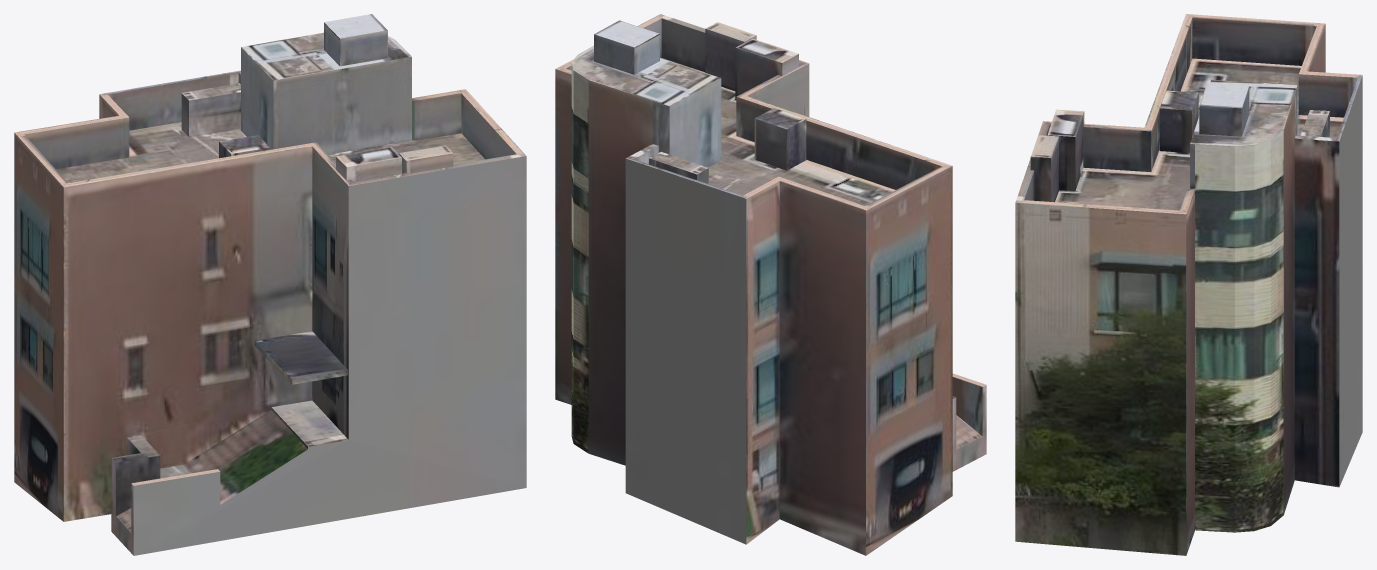
3 views of the same model, side by side, from view 1: azimuth 30°, elevation 25°; view 2: azimuth 150°, elevation 25°; view 3: azimuth 270°, elevation 25° (orthographic). The views are drawn at different scales.
Visible parts, largest first — view 1: B281174036301063A0; view 2: B281174036301063A0; view 3: B281174036301063A0.
Boxes of the visible parts, box(x1,y1,x2,y2) form: B281174036301063A0: box(14, 14, 526, 555); B281174036301063A0: box(555, 14, 986, 555); B281174036301063A0: box(1015, 14, 1362, 555).
Size of the model in its own units: 13.15 by 13.18 by 9.64.
1 material, 1 textured.
